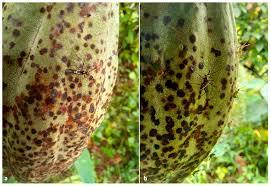Helopeltis-insect: (69, 56, 88, 88), (197, 66, 214, 95), (238, 36, 253, 60)
Xanthomonas: (10, 58, 64, 166), (144, 60, 189, 173)
